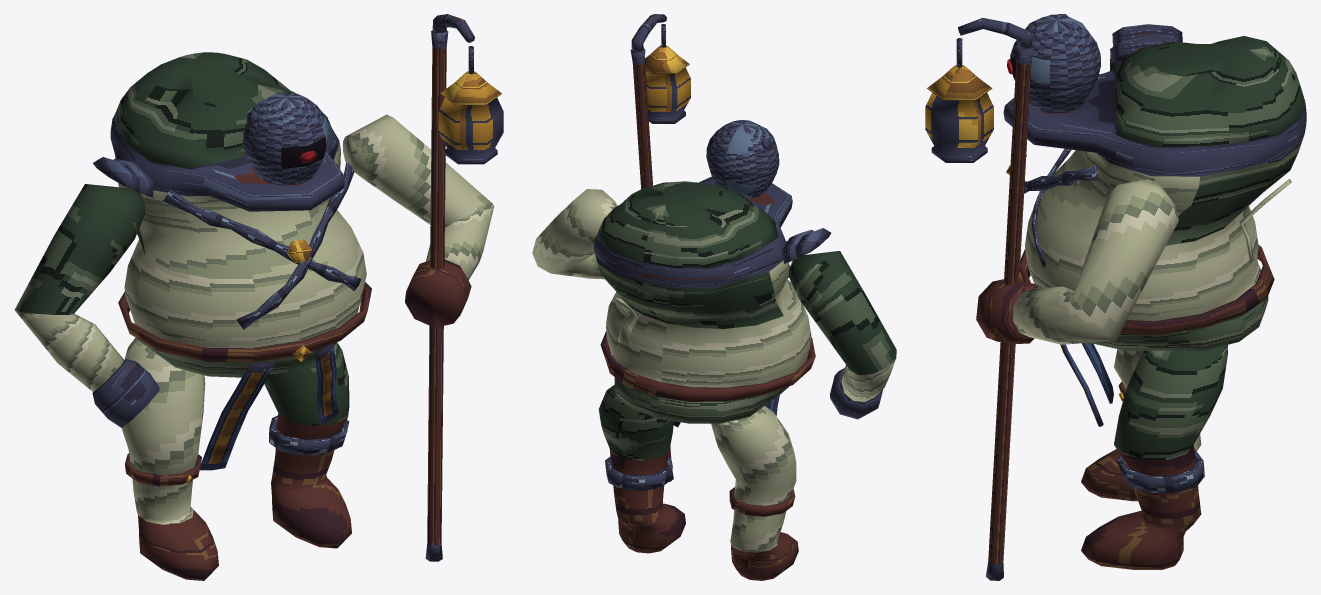
File: gruftwaechter_H2.glb
The picture shows the model from 3 angles, left to right: view 1: azimuth 30°, elevation 25°; view 2: azimuth 150°, elevation 25°; view 3: azimuth 270°, elevation 25°; orthographic projection. The views are drawn at different scales.
Visible parts, largest first — view 1: torso, arm_l, gear, leg_l, arm_r, pole, leg_r, head; view 2: torso, arm_l, leg_l, leg_r, gear, pole, arm_r, head; view 3: torso, leg_r, arm_r, pole, gear, head, leg_l, arm_l.
Boxes of the visible parts, x1,y1,x2,y2 form: torso: (110, 52, 366, 377); arm_l: (14, 157, 159, 427); gear: (118, 110, 371, 486); leg_l: (121, 337, 218, 580); arm_r: (343, 114, 494, 327); pole: (425, 14, 503, 561); leg_r: (264, 342, 351, 548); head: (243, 92, 328, 185); torso: (594, 176, 811, 423); arm_l: (782, 228, 896, 419); leg_l: (711, 406, 798, 580); leg_r: (598, 385, 685, 553); gear: (600, 138, 815, 516); pole: (630, 14, 690, 481); arm_r: (532, 189, 617, 279); head: (706, 120, 779, 198); torso: (1003, 36, 1306, 350); leg_r: (1081, 345, 1227, 569); arm_r: (976, 178, 1178, 344); pole: (925, 18, 1033, 580); gear: (1006, 14, 1291, 492); head: (1010, 14, 1100, 112); leg_l: (1081, 349, 1201, 501); arm_l: (1110, 24, 1182, 70).
Size of the model in its own units: 2.16 by 2.52 by 1.5.
Materials: 1 (1 with a texture image).
